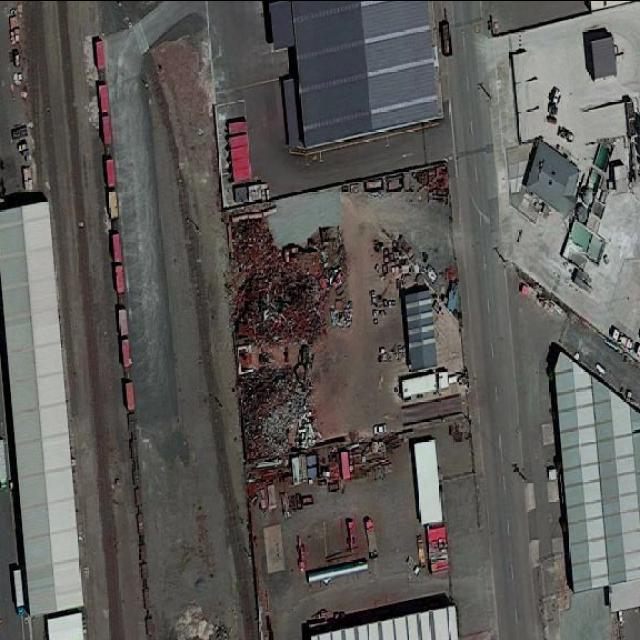dump_site: (230, 206, 328, 348), (240, 358, 322, 462)
